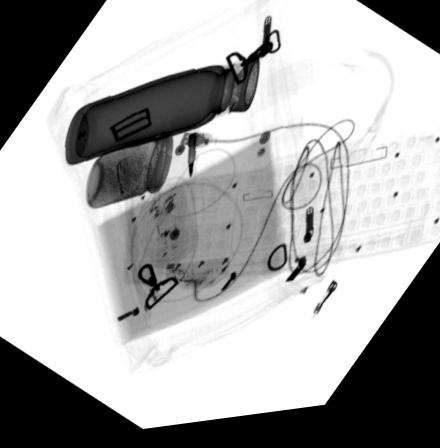Bullet: (186, 135, 197, 184)
